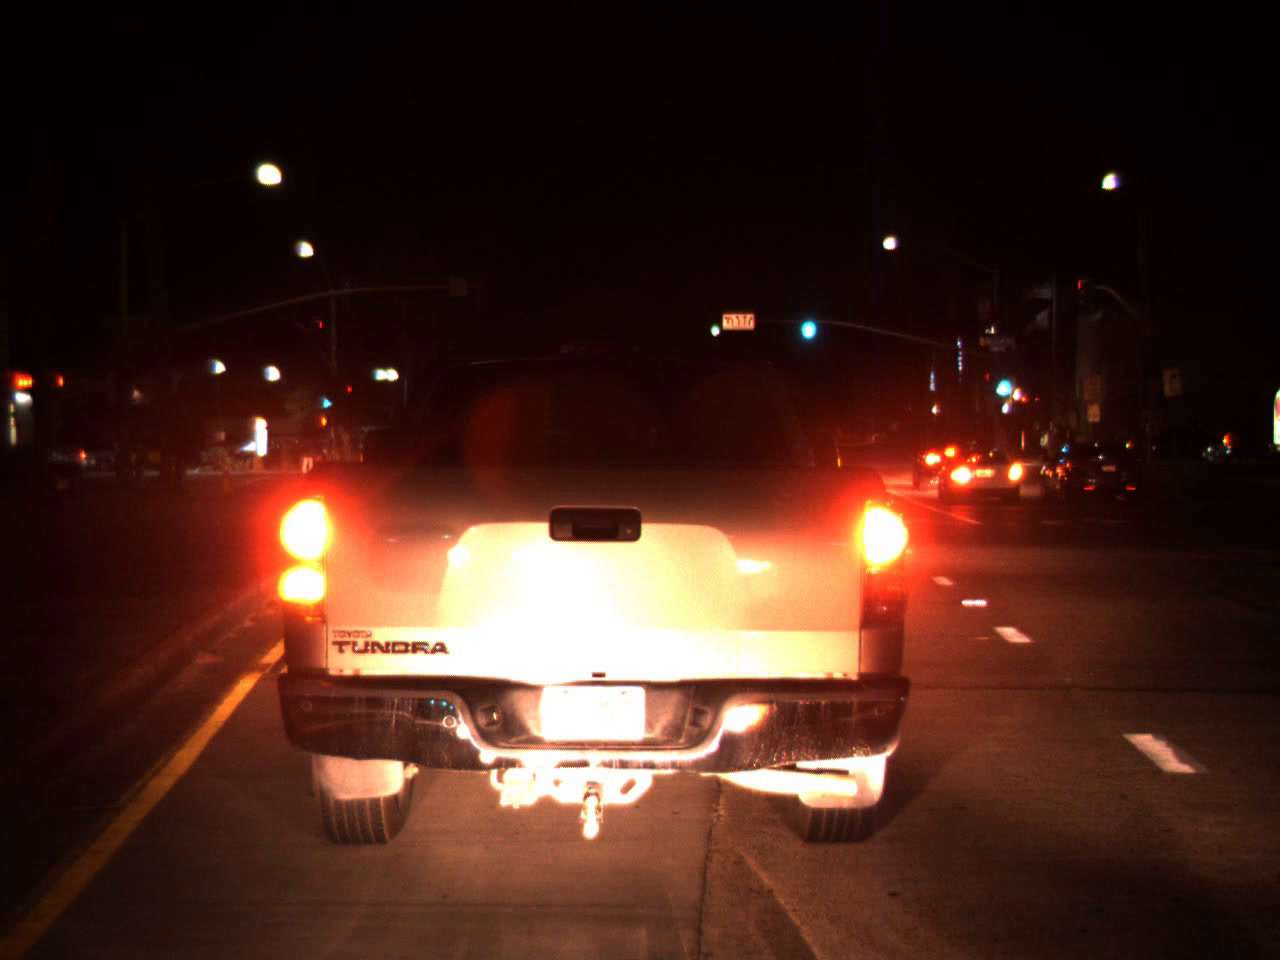go: (795, 298, 820, 346), (990, 360, 1015, 402), (708, 315, 720, 339), (321, 389, 334, 410)
